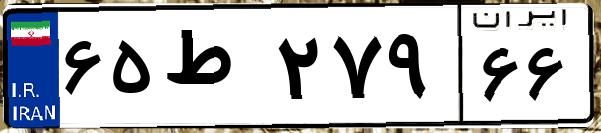2: (270, 28, 330, 110)
5: (110, 28, 158, 98)
6: (57, 26, 110, 100), (475, 38, 525, 113), (525, 38, 570, 115)
7: (330, 28, 385, 110)
9: (385, 28, 445, 110)
ط: (158, 20, 270, 120)
